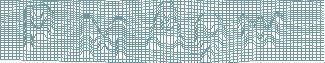9: (192, 12, 227, 63)
A: (144, 1, 186, 54)
M: (78, 12, 127, 61)
p: (22, 2, 55, 52)
w: (236, 11, 283, 50)
